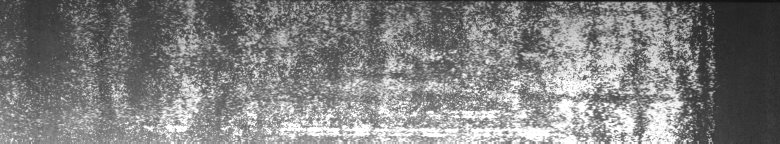kb: (4, 4, 718, 136)
